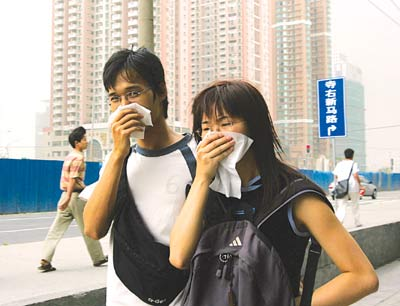face: (199, 103, 248, 164), (107, 72, 154, 129), (77, 133, 88, 147)
